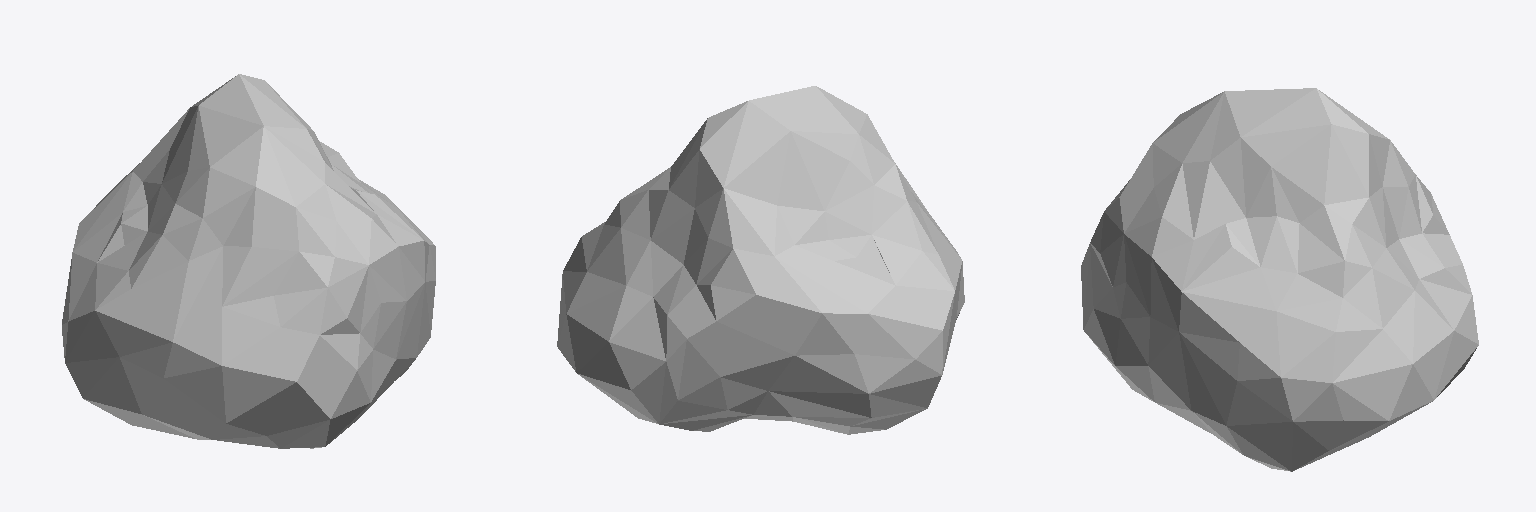
Rendered from rock2.obj.
The picture shows the model from 3 angles: view 1: azimuth 30°, elevation 25°; view 2: azimuth 150°, elevation 25°; view 3: azimuth 270°, elevation 25°; orthographic projection.
Parts seen in each view (by area): view 1: rock.019; view 2: rock.019; view 3: rock.019.
Part boxes in pixels (x1,y1,x2,y2): rock.019: (62, 74, 435, 448); rock.019: (557, 86, 964, 434); rock.019: (1081, 88, 1478, 471).
Bounding box in the file's own units: 1.25 × 1.1 × 1.18.